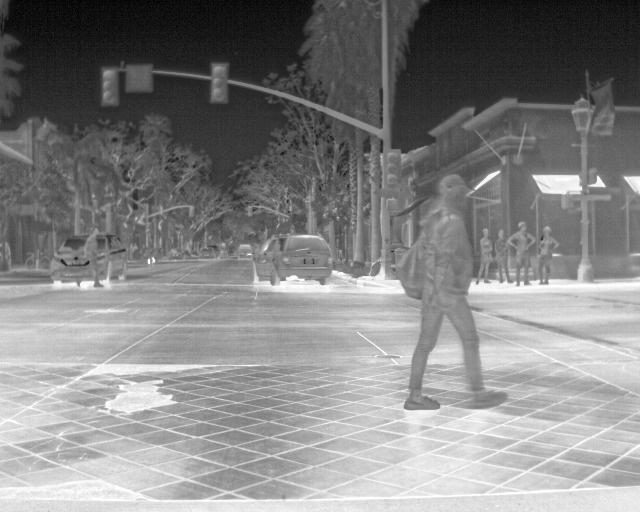bicycle: (253, 232, 335, 286), (49, 230, 88, 282), (101, 229, 127, 283), (235, 239, 257, 260)
empty: (404, 172, 511, 414), (73, 229, 105, 288), (507, 222, 534, 285), (533, 224, 557, 285), (470, 227, 493, 285), (494, 225, 514, 285)
